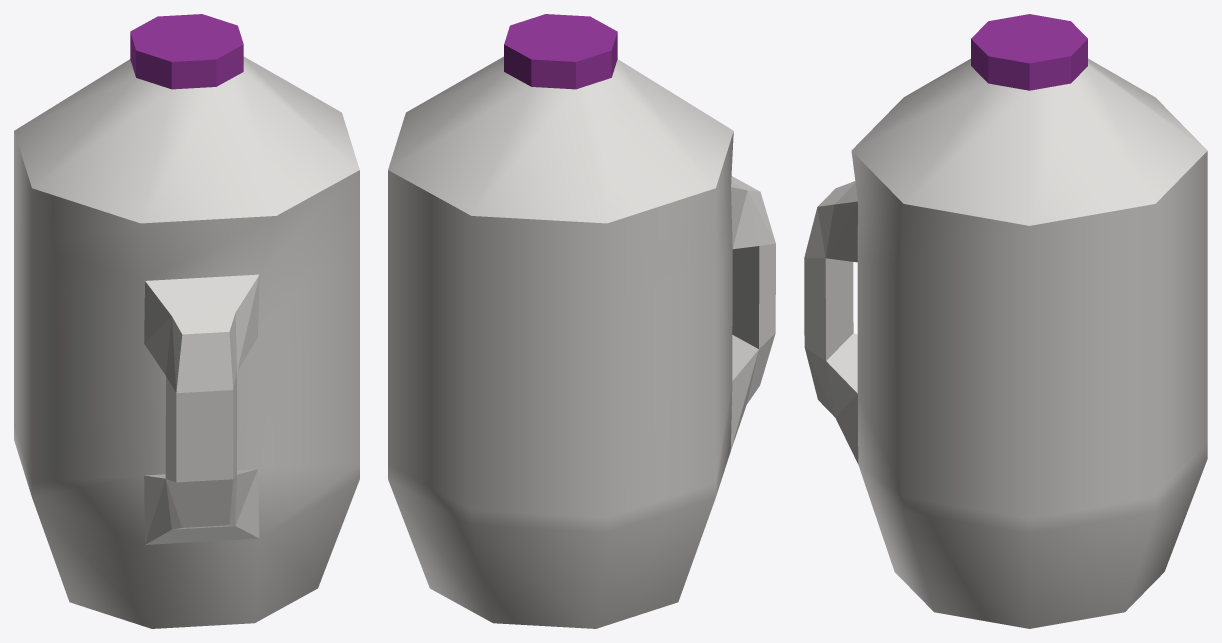
Rendered from Produce_Jug.glb.
3 views of the same model, side by side, from view 1: azimuth 30°, elevation 25°; view 2: azimuth 150°, elevation 25°; view 3: azimuth 270°, elevation 25° (orthographic).
Visible parts, largest first — view 1: Cylinder004; view 2: Cylinder004; view 3: Cylinder004.
Boxes of the visible parts, x1,y1,x2,y2 form: Cylinder004: [14, 14, 359, 628]; Cylinder004: [388, 14, 775, 628]; Cylinder004: [804, 14, 1207, 628].
Bounding box in the file's own units: 0.277 × 0.4573 × 0.3137.
